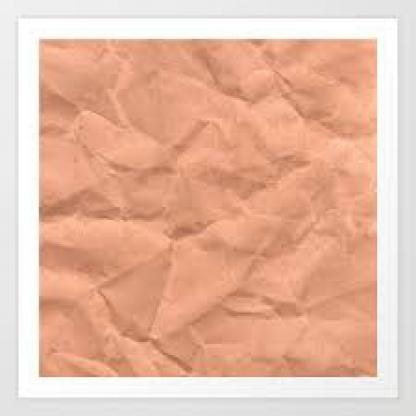paper: (35, 34, 375, 376)
